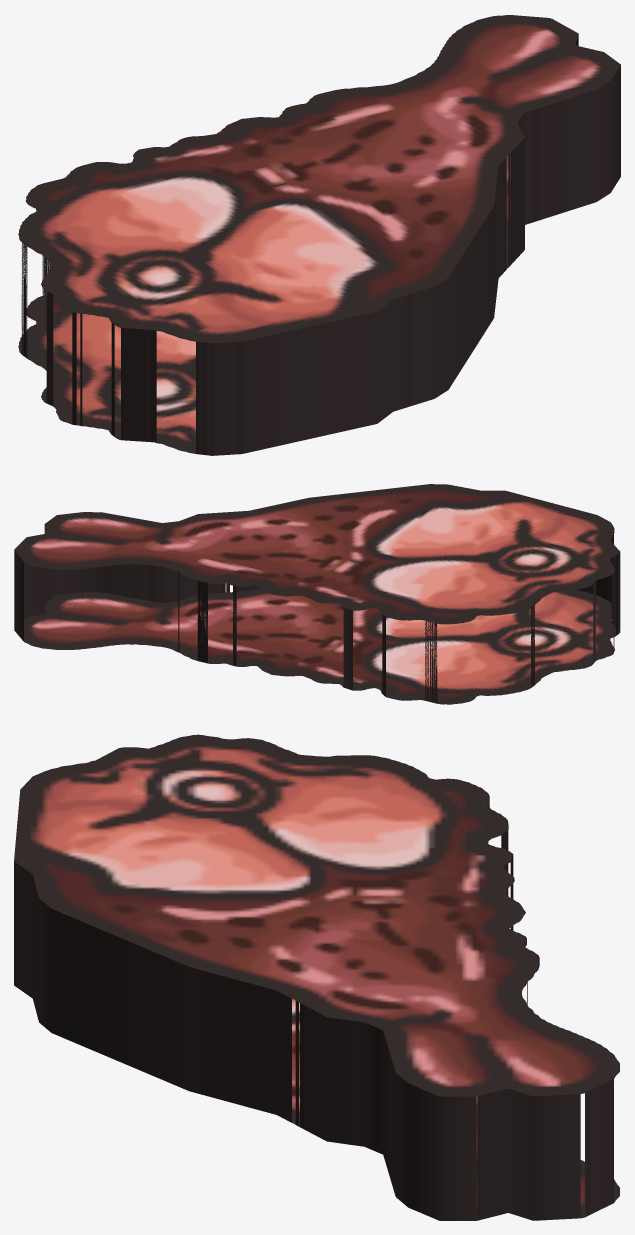
3 views of the same model, one above another, from view 1: azimuth 30°, elevation 25°; view 2: azimuth 150°, elevation 25°; view 3: azimuth 270°, elevation 25° (orthographic). The views are drawn at different scales.
Visible parts, largest first — view 1: Curve; view 2: Curve; view 3: Curve.
Part boxes in pixels (<box>): Curve: <box>18,15,620,455</box>; Curve: <box>14,484,620,704</box>; Curve: <box>14,734,619,1220</box>.
Bounding box in the file's own units: 1 × 0.16 × 0.7079.
Materials: 1 (1 with a texture image).
